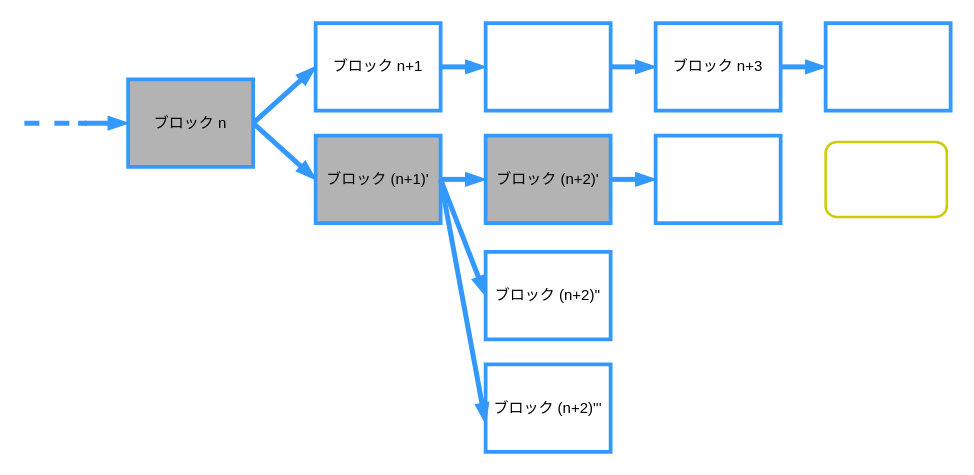
Image size: 974x475. Some labels were removed from this diagram. The shapes that lost their labels are listed below. From the top down, each one's centre as x and y in pixels, then its label:
the point at 547,66: ブロック n+2
the point at 887,66: ブロック n+4
the point at 717,178: ブロック (n+3)' 0
